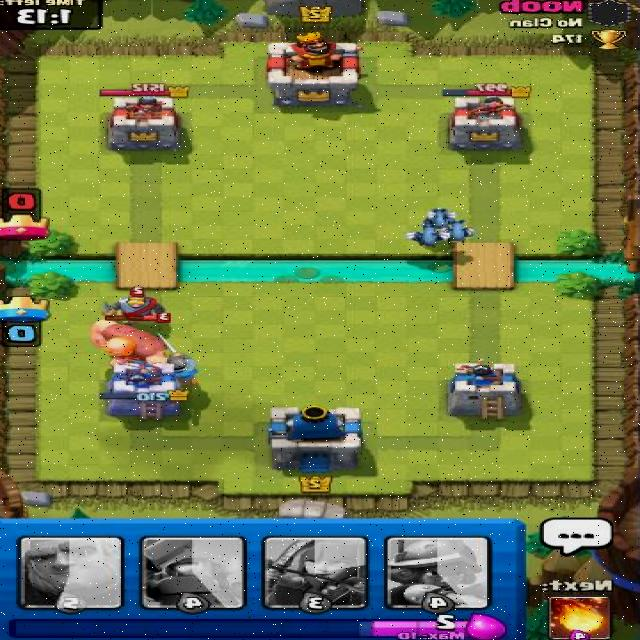Enemy-Giant: (85, 311, 176, 372)
Enemy-Knight: (100, 286, 167, 327)
Player-Knight: (146, 331, 201, 382)
Player-Minion: (400, 222, 453, 250), (438, 218, 478, 245), (421, 206, 459, 230)
